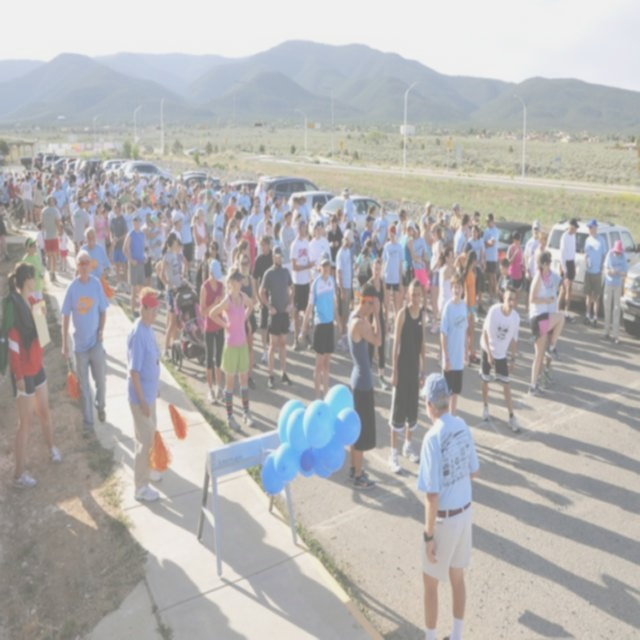pessoa: (472, 351, 639, 638), (415, 370, 483, 639), (0, 257, 64, 492), (56, 246, 110, 439), (385, 274, 429, 478), (66, 160, 224, 213), (125, 284, 163, 504), (346, 279, 384, 492), (208, 266, 255, 434), (476, 281, 522, 437), (524, 247, 566, 400), (296, 248, 338, 398), (256, 242, 296, 390), (532, 250, 566, 392), (439, 270, 471, 418), (197, 257, 228, 406), (158, 230, 188, 364), (288, 215, 317, 352), (158, 230, 186, 354), (579, 214, 608, 328), (366, 256, 390, 392), (436, 245, 462, 370), (599, 238, 629, 346), (250, 233, 274, 365), (122, 212, 150, 322), (74, 225, 116, 298), (334, 226, 356, 354), (238, 252, 258, 390), (556, 216, 581, 326), (407, 220, 432, 323), (424, 221, 446, 336), (381, 224, 404, 334), (397, 218, 424, 308), (108, 196, 130, 294), (462, 248, 480, 366), (40, 194, 63, 284), (523, 218, 541, 324), (20, 234, 46, 304), (482, 212, 501, 306), (140, 210, 163, 286), (308, 218, 334, 284), (194, 240, 221, 300), (0, 164, 67, 188), (150, 214, 168, 300), (153, 210, 170, 300), (506, 230, 524, 312), (278, 209, 297, 286), (70, 194, 92, 260), (178, 199, 194, 287), (190, 205, 210, 272), (476, 221, 489, 316), (245, 197, 264, 257), (49, 178, 68, 236), (360, 212, 382, 260), (212, 200, 226, 272), (222, 216, 240, 270), (256, 204, 274, 257), (494, 257, 514, 304), (466, 224, 479, 296), (418, 212, 434, 270), (20, 174, 36, 231), (452, 211, 471, 258), (326, 214, 344, 263), (182, 307, 204, 347), (230, 227, 252, 267), (0, 184, 11, 263), (374, 206, 390, 260), (241, 224, 257, 278), (308, 199, 329, 239), (534, 230, 552, 276), (256, 218, 276, 257), (356, 245, 374, 288), (56, 221, 70, 274), (232, 238, 250, 278), (31, 179, 45, 229), (342, 185, 356, 232), (354, 239, 376, 268), (453, 240, 472, 273), (92, 202, 106, 246), (418, 200, 436, 234), (290, 197, 308, 230), (222, 194, 240, 227), (218, 180, 236, 213), (204, 190, 216, 239), (467, 209, 485, 240), (296, 193, 311, 230), (448, 202, 464, 236), (235, 184, 252, 216), (440, 212, 455, 248), (36, 220, 47, 268), (194, 191, 208, 228), (272, 222, 286, 258), (231, 210, 243, 249), (395, 206, 407, 242), (291, 212, 305, 240), (272, 199, 286, 227), (255, 180, 268, 209), (8, 174, 18, 210), (170, 215, 183, 242), (334, 205, 346, 234), (250, 194, 264, 217), (238, 204, 248, 234), (270, 194, 280, 218), (170, 198, 183, 216), (281, 194, 292, 214), (266, 187, 276, 208), (230, 182, 240, 200), (368, 203, 378, 220), (434, 208, 444, 224), (237, 182, 249, 195), (248, 183, 253, 200), (227, 184, 233, 192)
